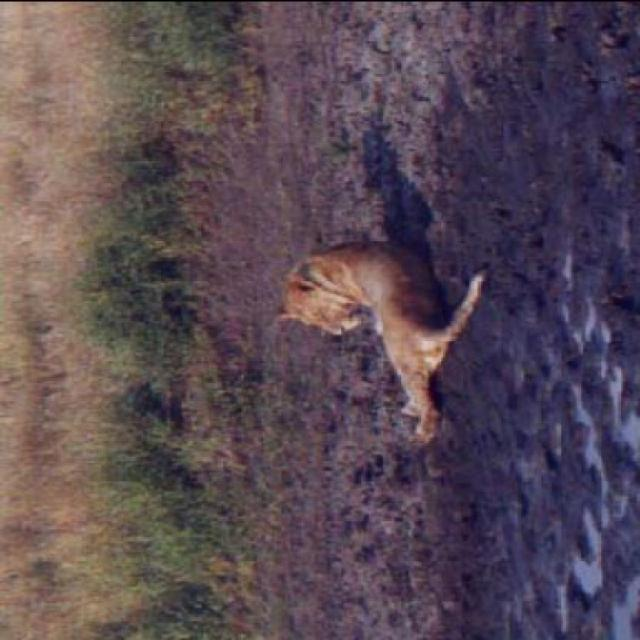Lion: (270, 212, 528, 456)
